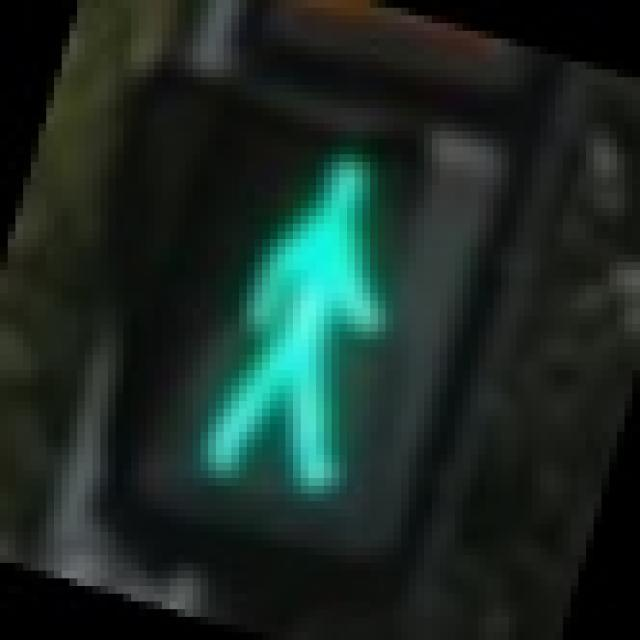green_light: (131, 70, 478, 548)
